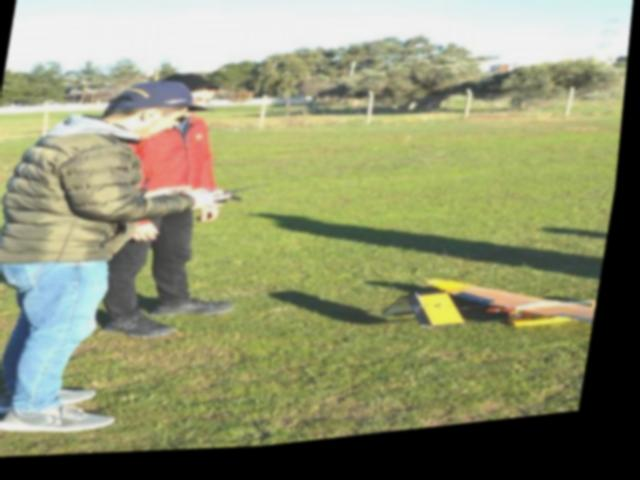iha: (394, 268, 610, 359)
